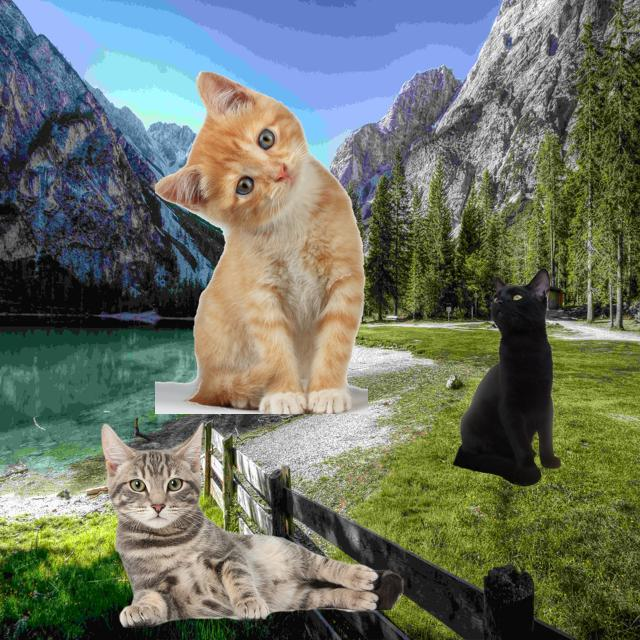cat: (157, 58, 366, 412), (95, 418, 403, 632), (446, 263, 585, 492)
